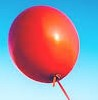Balloon: (8, 5, 80, 83)
